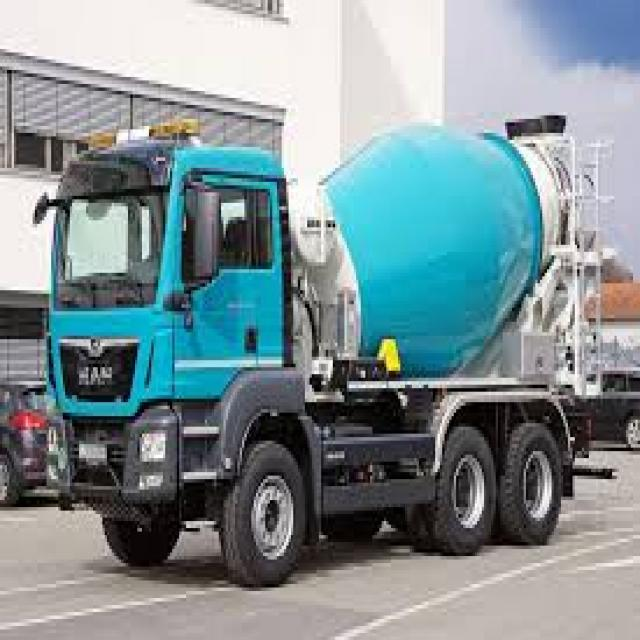Mixer Truck: (29, 110, 618, 594)
